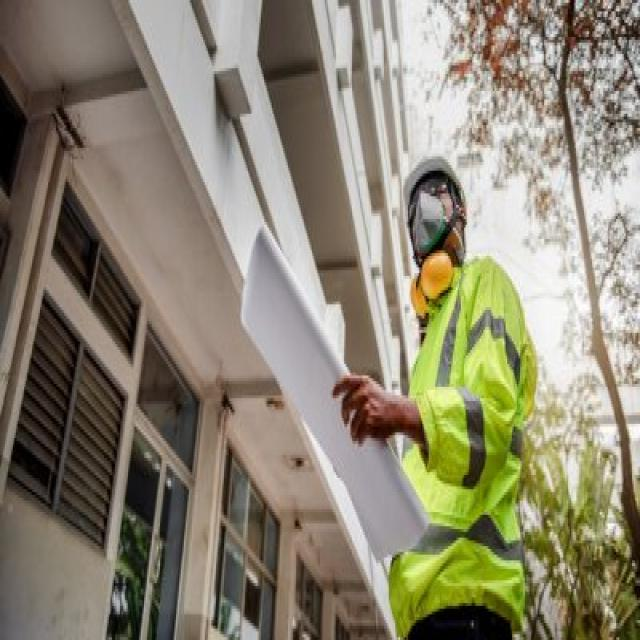goggles: (402, 175, 454, 228)
helmet: (401, 151, 469, 221)
vest: (386, 254, 538, 640)
